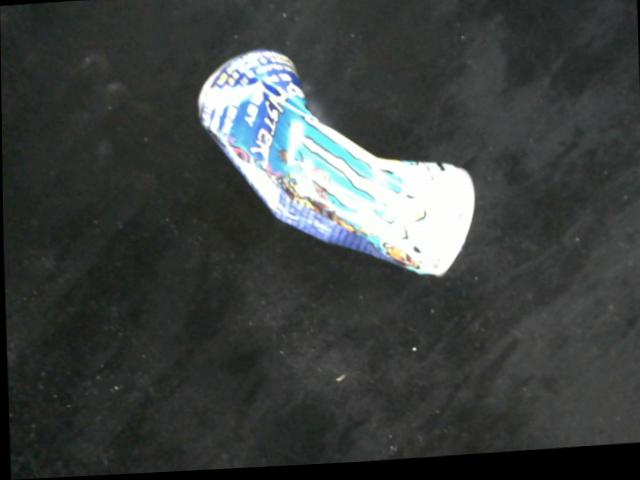can: (198, 48, 477, 282)
